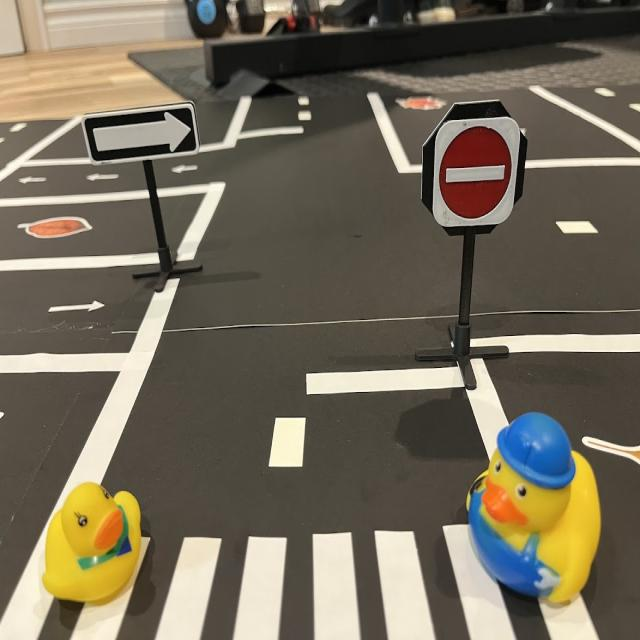duck_regular: (42, 484, 142, 608)
duck_specialty: (468, 415, 602, 610)
road_crosswalk: (70, 522, 600, 640)
road_oneway: (45, 298, 109, 318), (84, 171, 122, 186), (17, 172, 50, 188), (169, 163, 203, 178)
sign_noentry: (432, 116, 523, 227)
sign_oneway_right: (84, 105, 199, 166)
